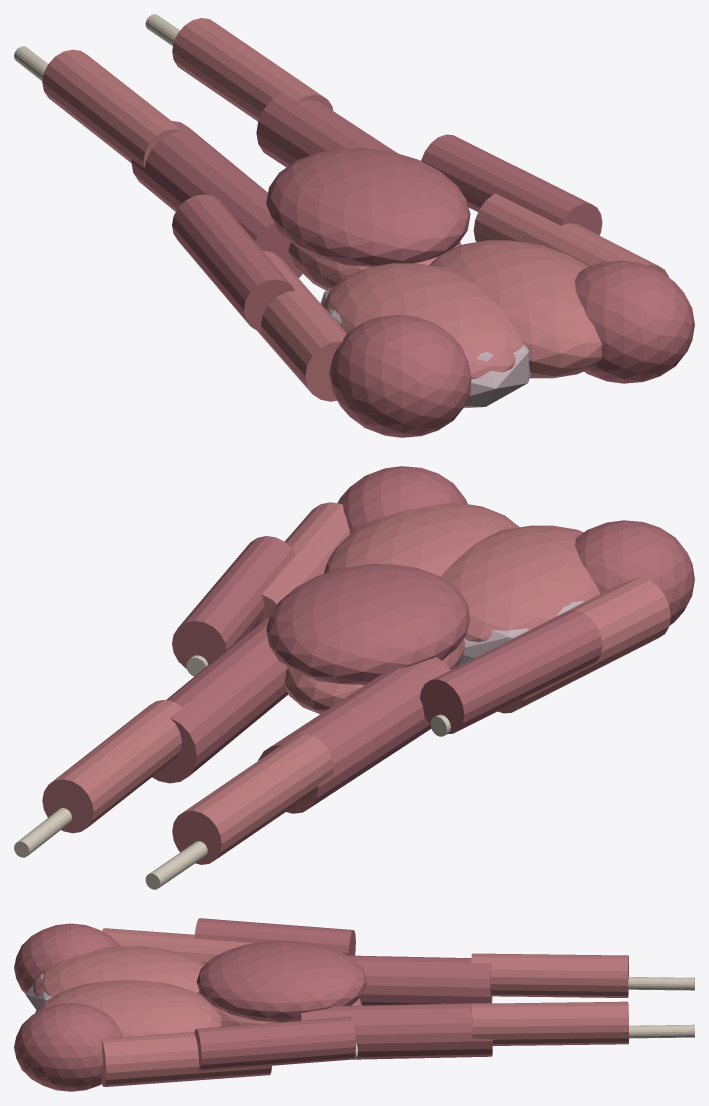
File: muscular-g3-medium.glb
3 views of the same model, one above another, from view 1: azimuth 30°, elevation 25°; view 2: azimuth 150°, elevation 25°; view 3: azimuth 270°, elevation 25° (orthographic). The views are drawn at different scales.
Parts seen in each view (by area): view 1: back_muscle_proxy, left_deltoid, right_pectoralis, left_pectoralis, right_deltoid, left_quadriceps, left_triceps_proxy, left_calf, right_calf, right_triceps_proxy, left_biceps, right_quadriceps (+3 smaller); view 2: back_muscle_proxy, left_pectoralis, left_triceps_proxy, right_quadriceps, left_quadriceps, left_calf, right_calf, right_pectoralis, right_triceps_proxy, left_deltoid, left_biceps, right_deltoid (+5 smaller); view 3: back_muscle_proxy, right_quadriceps, right_deltoid, right_triceps_proxy, right_calf, right_pectoralis, left_calf, left_quadriceps, right_biceps, left_pectoralis, left_deltoid, left_triceps_proxy (+5 smaller).
Boxes of the visible parts, bbox=[...] form: back_muscle_proxy: bbox=[266, 148, 470, 266]; left_deltoid: bbox=[329, 315, 471, 437]; right_pectoralis: bbox=[430, 240, 601, 378]; left_pectoralis: bbox=[322, 263, 523, 379]; right_deltoid: bbox=[575, 260, 694, 383]; left_quadriceps: bbox=[131, 120, 302, 278]; left_triceps_proxy: bbox=[172, 194, 294, 331]; left_calf: bbox=[42, 49, 181, 167]; right_calf: bbox=[172, 18, 333, 121]; right_triceps_proxy: bbox=[421, 134, 602, 235]; left_biceps: bbox=[257, 250, 346, 401]; right_quadriceps: bbox=[256, 93, 397, 167]; back_muscle_proxy: bbox=[266, 564, 470, 684]; left_pectoralis: bbox=[441, 525, 600, 642]; left_triceps_proxy: bbox=[420, 610, 602, 733]; right_quadriceps: bbox=[152, 618, 288, 783]; left_quadriceps: bbox=[258, 657, 450, 813]; left_calf: bbox=[172, 734, 333, 864]; right_calf: bbox=[42, 700, 182, 833]; right_pectoralis: bbox=[323, 502, 519, 576]; right_triceps_proxy: bbox=[172, 536, 295, 668]; left_deltoid: bbox=[575, 520, 694, 625]; left_biceps: bbox=[487, 577, 670, 713]; right_deltoid: bbox=[337, 466, 467, 533]; back_muscle_proxy: bbox=[196, 941, 367, 1022]; right_quadriceps: bbox=[300, 1002, 492, 1059]; right_deltoid: bbox=[14, 1003, 122, 1091]; right_triceps_proxy: bbox=[194, 1017, 355, 1071]; right_calf: bbox=[471, 1001, 628, 1045]; right_pectoralis: bbox=[35, 980, 222, 1037]; left_calf: bbox=[471, 953, 628, 997]; left_quadriceps: bbox=[347, 955, 492, 1005]; right_biceps: bbox=[101, 1032, 271, 1086]; left_pectoralis: bbox=[33, 946, 204, 996]; left_deltoid: bbox=[14, 923, 120, 993]; left_triceps_proxy: bbox=[194, 918, 355, 955].
Bounding box in the file's own units: 2.17 × 0.73 × 4.78.
